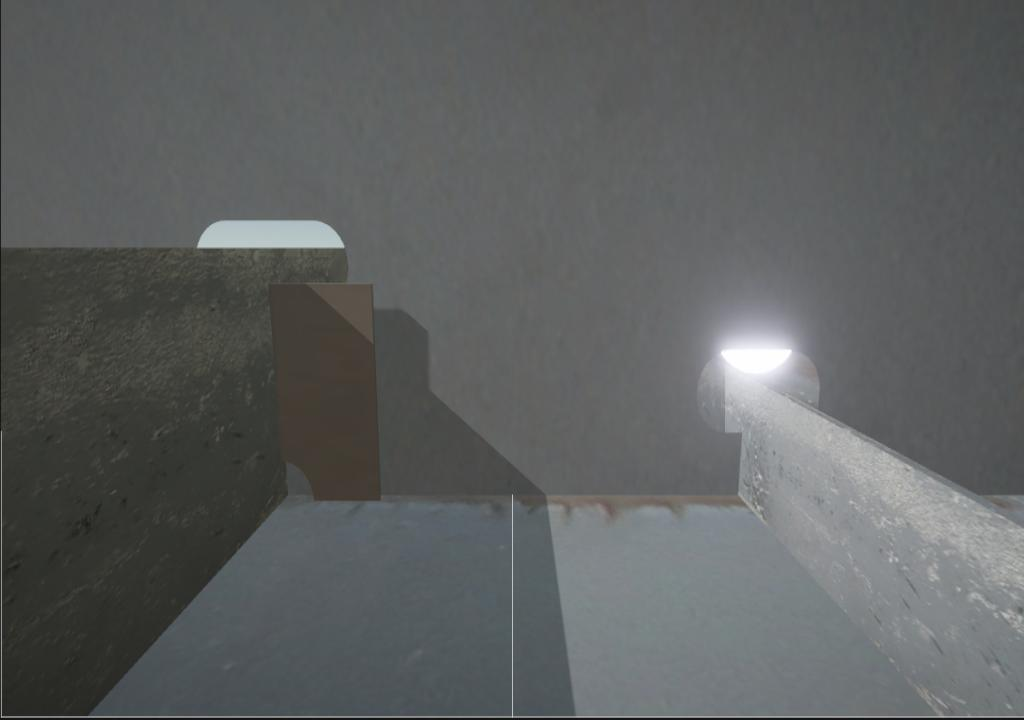fillet_yong_jeop_jang: (381, 489, 743, 501)
longi_yong_jeop_jang: (731, 426, 747, 502)
plate_CP02: (271, 283, 382, 502)
